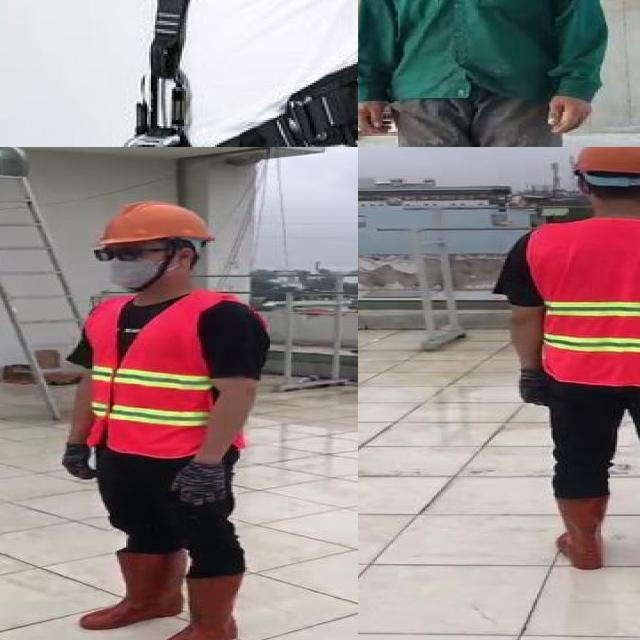Harness: (87, 0, 358, 147)
boots: (78, 545, 194, 631), (153, 575, 247, 640), (549, 495, 610, 573)
face_mask: (94, 241, 174, 290)
glasses: (89, 242, 159, 265)
hand_glove: (167, 461, 233, 508), (59, 439, 101, 479), (521, 367, 551, 411)
hand_noglove: (542, 87, 600, 140), (358, 94, 396, 141)
head_helmet: (91, 197, 218, 252), (567, 147, 640, 177)
person: (51, 195, 277, 640), (490, 147, 640, 581), (358, 0, 609, 147)
vest: (78, 293, 249, 454), (528, 217, 640, 382)
